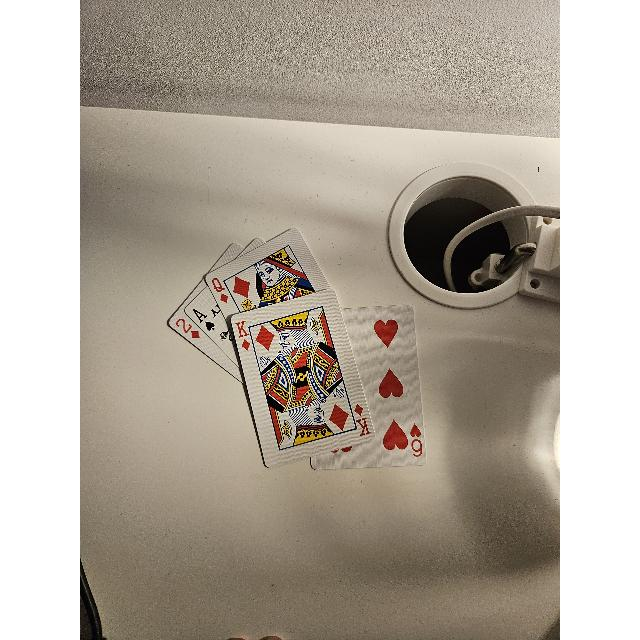2D: (176, 316, 200, 340)
6H: (410, 421, 422, 459)
AS: (193, 308, 217, 332)
KD: (354, 401, 372, 439), (236, 316, 250, 352)
QD: (210, 274, 232, 304)
